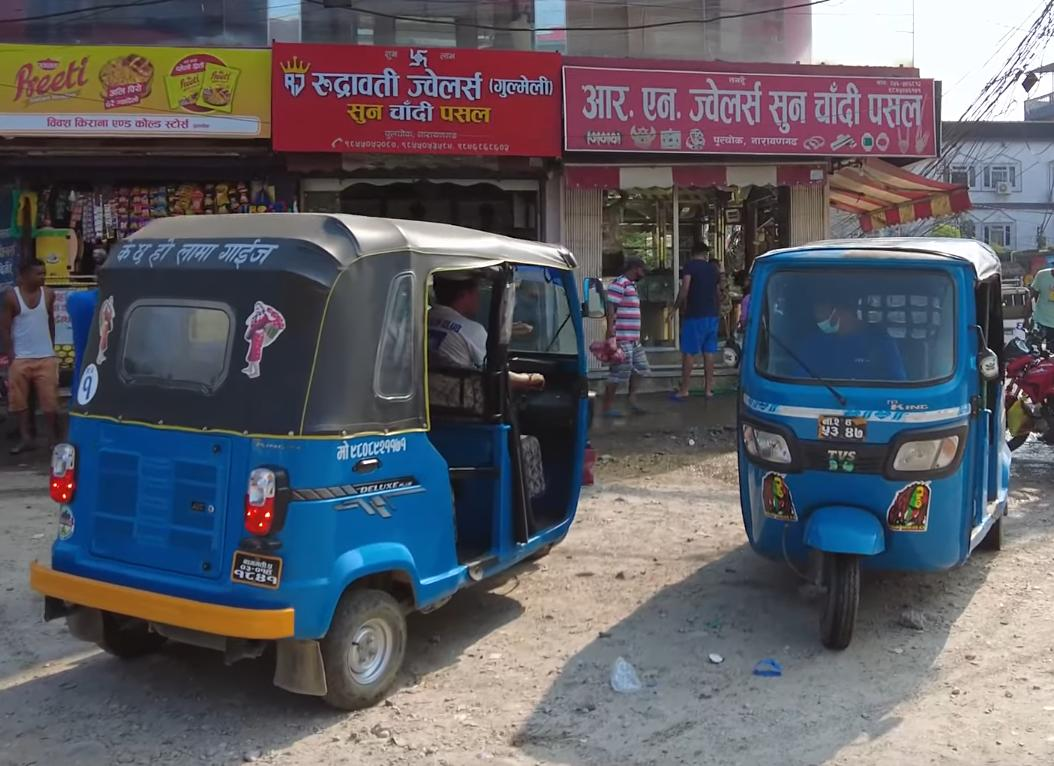auto_rickshaw: (26, 194, 606, 718), (726, 223, 1014, 657)
